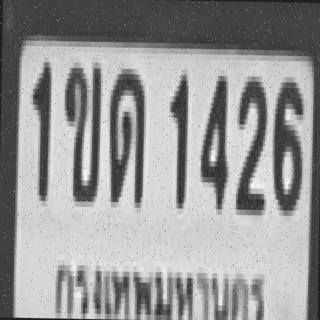A02: (61, 57, 99, 196)
A20: (107, 61, 143, 200)
N01: (29, 56, 49, 196), (166, 70, 187, 203)
N02: (234, 71, 266, 210)
N04: (198, 70, 226, 204)
N06: (270, 72, 302, 210)
P04: (47, 248, 270, 320)
